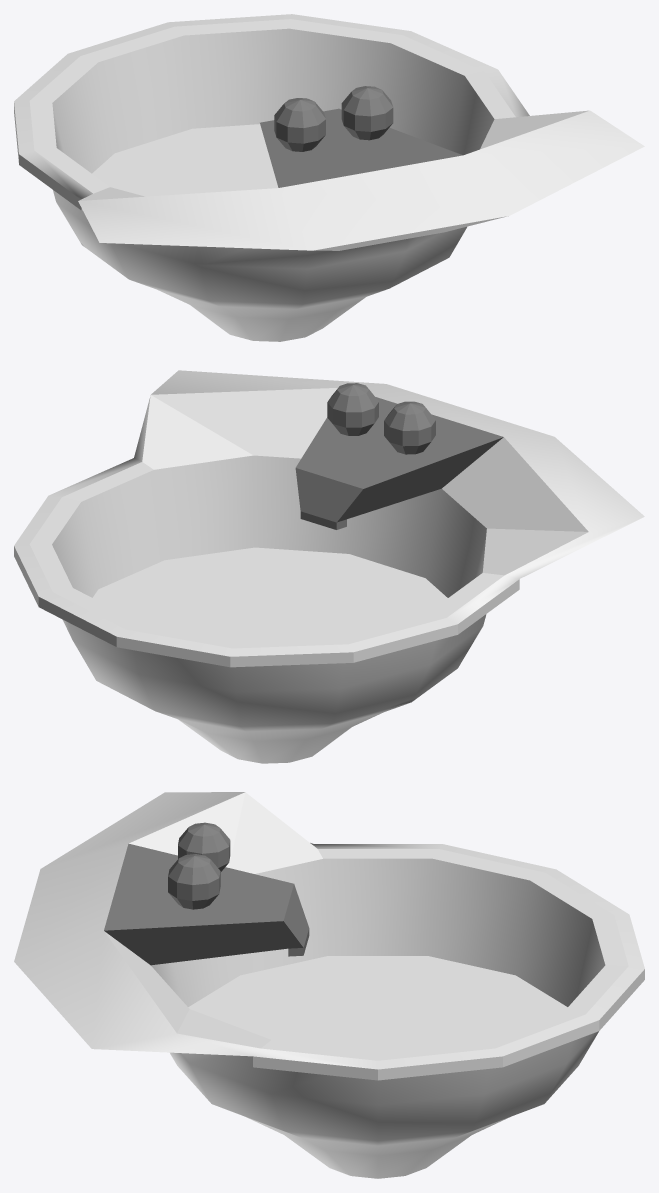
File: Sink Textured.fbx
3 renders of one model, top to bottom at view 1: azimuth 30°, elevation 25°; view 2: azimuth 150°, elevation 25°; view 3: azimuth 270°, elevation 25°, orthographic. The views are drawn at different scales.
Parts seen in each view (by area): view 1: pSphere1, pSphere2, pSphere3; view 2: pSphere1, pSphere3, pSphere2; view 3: pSphere1, pSphere2, pSphere3.
Part boxes in pixels (<box>): pSphere1: <box>14,14,644,341</box>; pSphere2: <box>341,86,393,140</box>; pSphere3: <box>274,98,325,151</box>; pSphere1: <box>14,370,644,763</box>; pSphere3: <box>384,401,435,454</box>; pSphere2: <box>327,383,378,435</box>; pSphere1: <box>14,792,644,1178</box>; pSphere2: <box>168,854,220,909</box>; pSphere3: <box>178,822,230,872</box>.
Bounding box in the file's own units: 2.46 × 1.35 × 2.57.
1 material, 1 textured.
